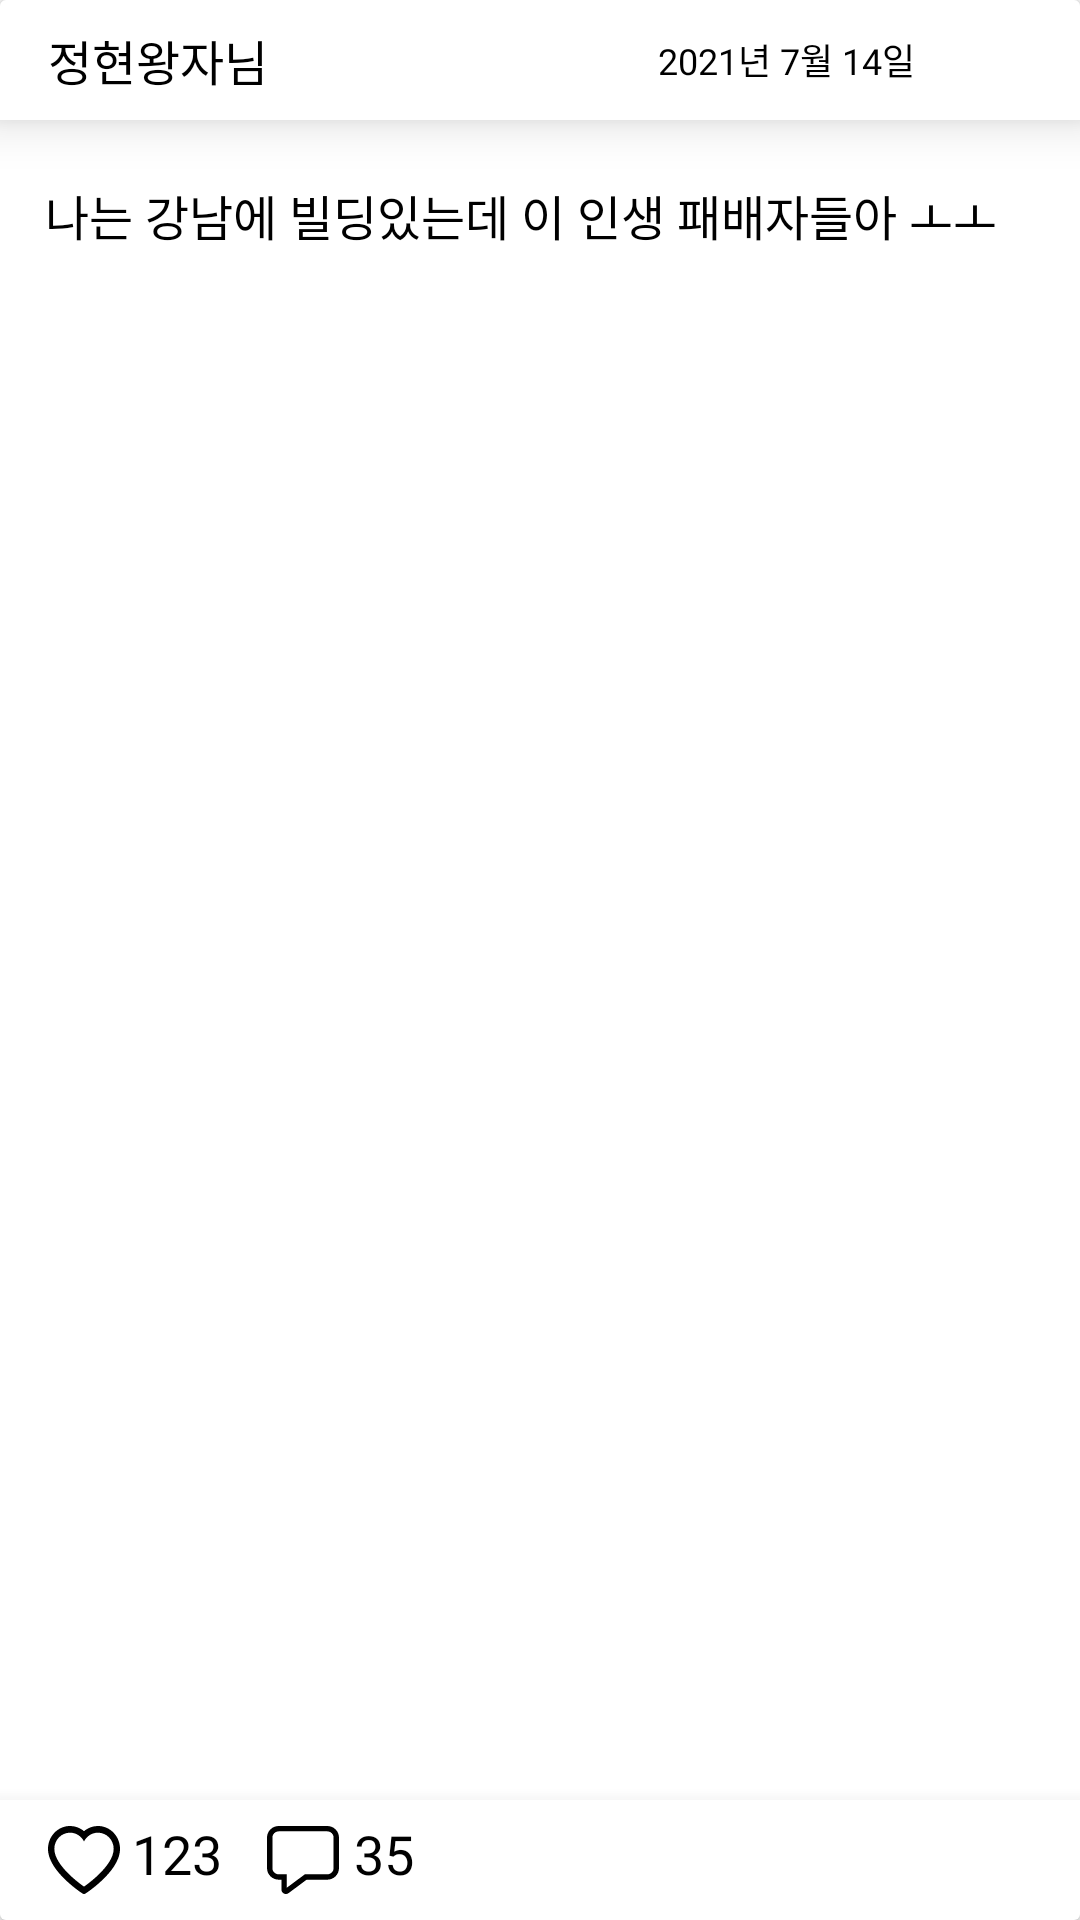

Locate icon controls on the screen. Image size 1080 × 1920, boxes as (x1, y1, x2, y2).
comment: (267, 1826, 339, 1894)
like empty: (48, 1826, 120, 1894)
